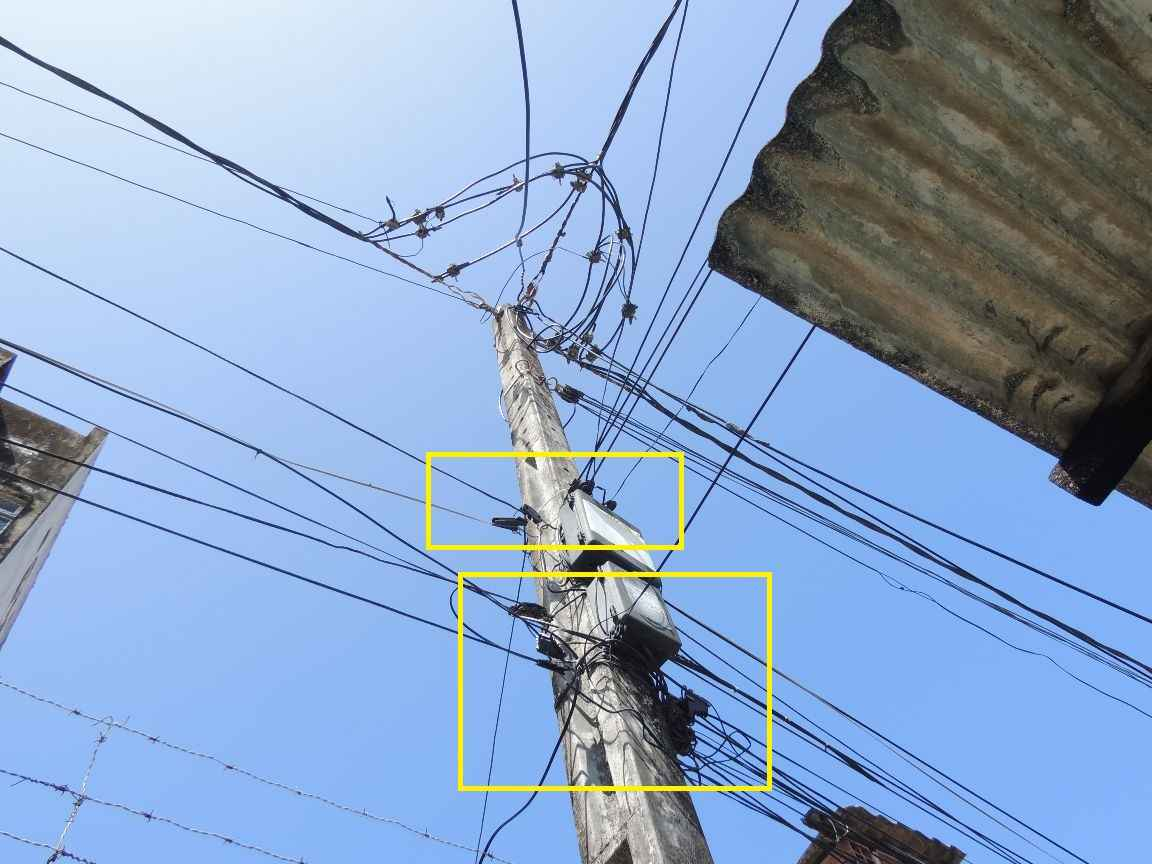caixa_derivacao: (560, 479, 671, 584), (587, 557, 681, 679)
drop: (507, 589, 576, 715), (651, 694, 706, 759), (490, 490, 546, 540), (544, 372, 589, 410)
